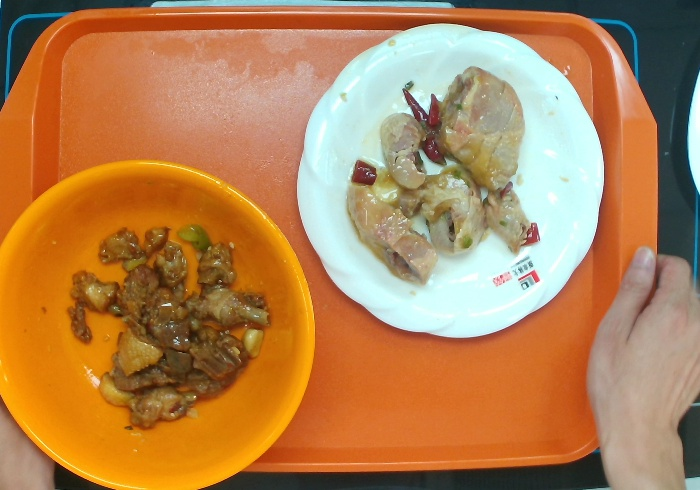ZNLD-Hua_Bian_Wan: (294, 23, 606, 341)
ZNLD-Ju_Se_Tang_Wan: (1, 160, 320, 490)
